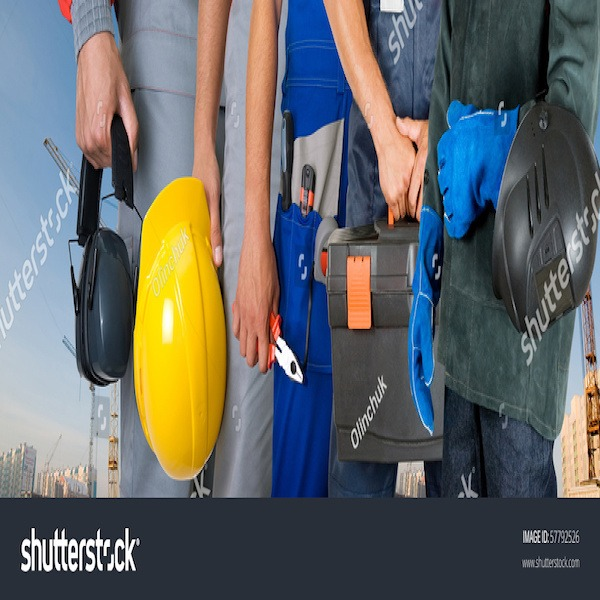helmet: (136, 182, 227, 476), (494, 107, 597, 318)
